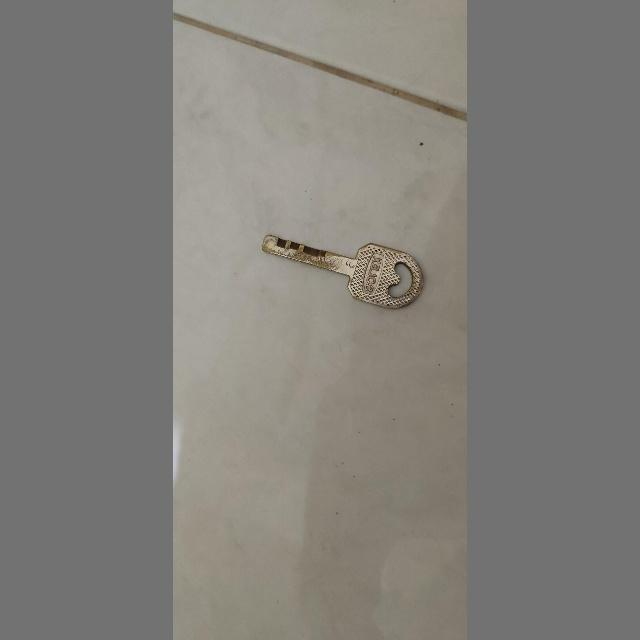Keys: (252, 222, 428, 314)
